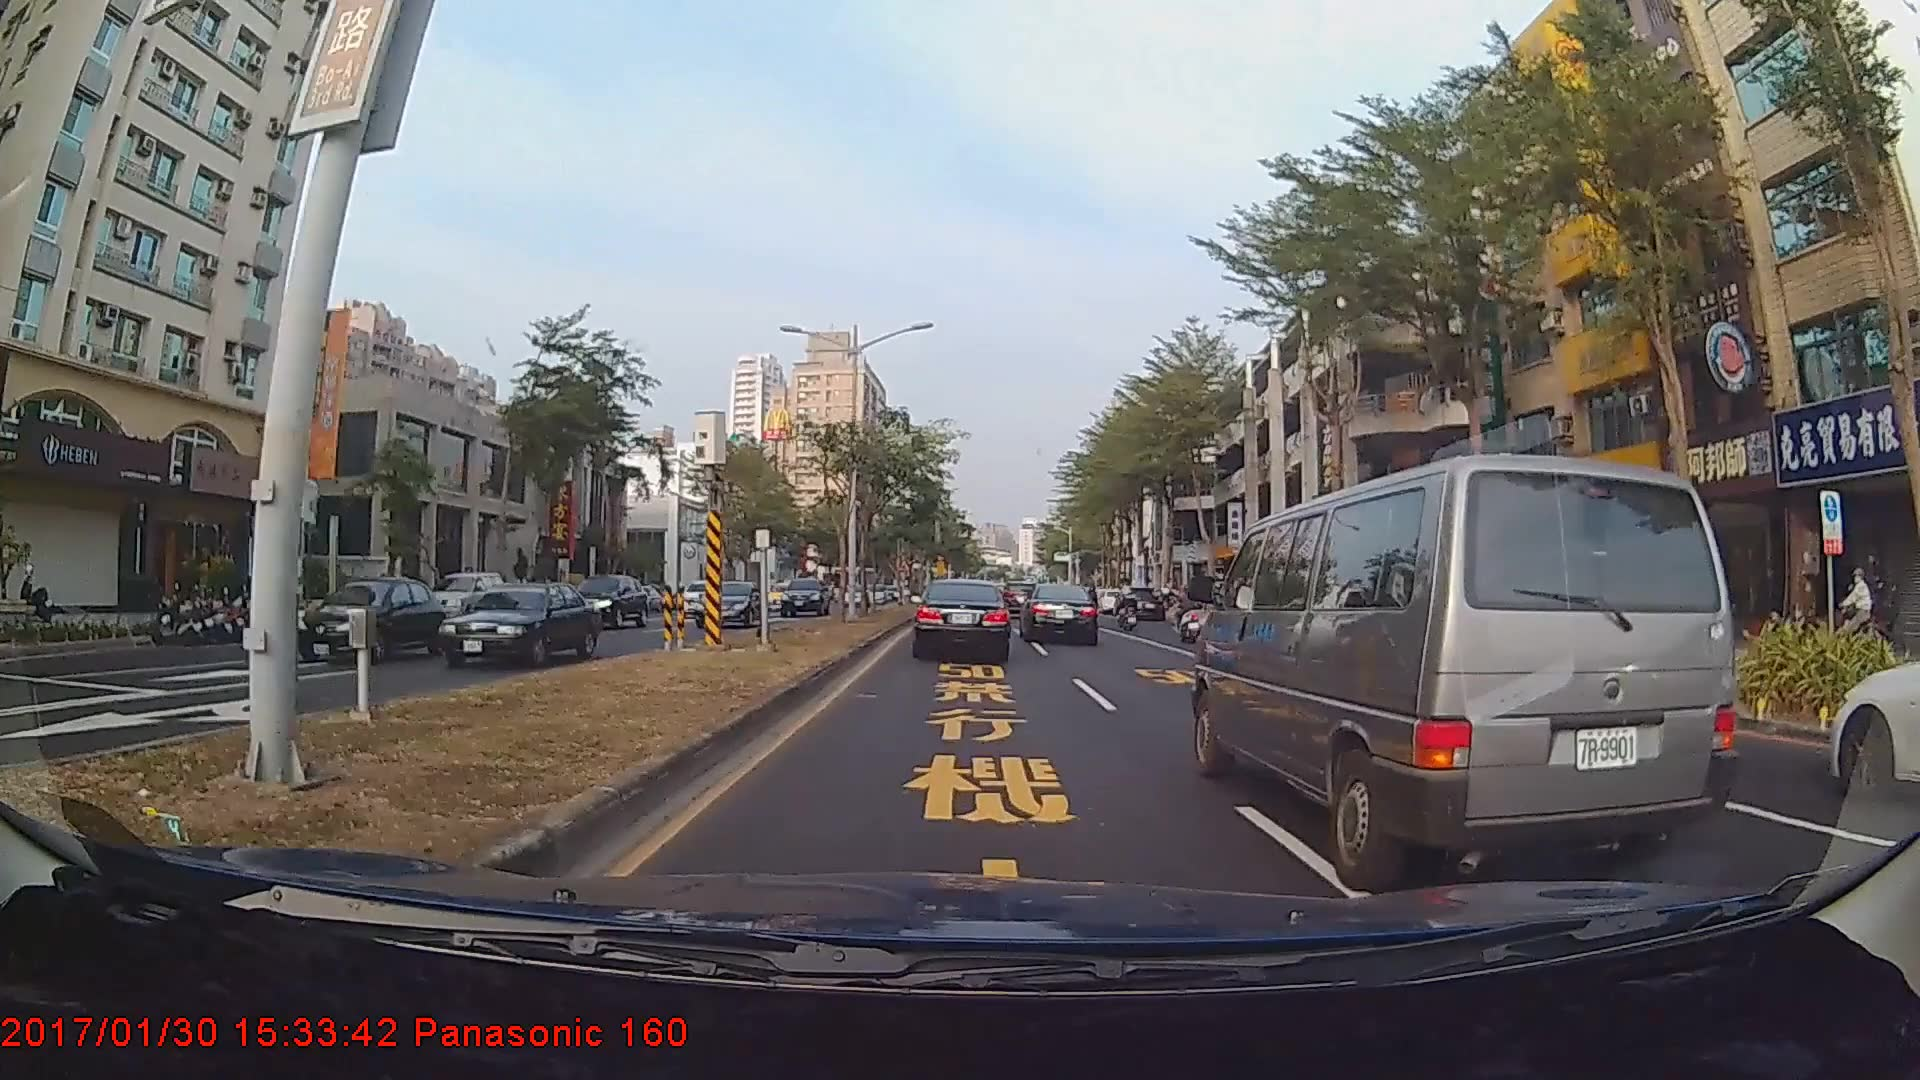vehicle: (1203, 443, 1731, 880), (1824, 584, 1919, 818), (431, 576, 603, 669), (291, 578, 451, 665), (914, 579, 1011, 663), (562, 574, 650, 630), (1021, 582, 1100, 645), (427, 572, 506, 622), (691, 578, 764, 628), (673, 579, 727, 618), (779, 575, 828, 615)
